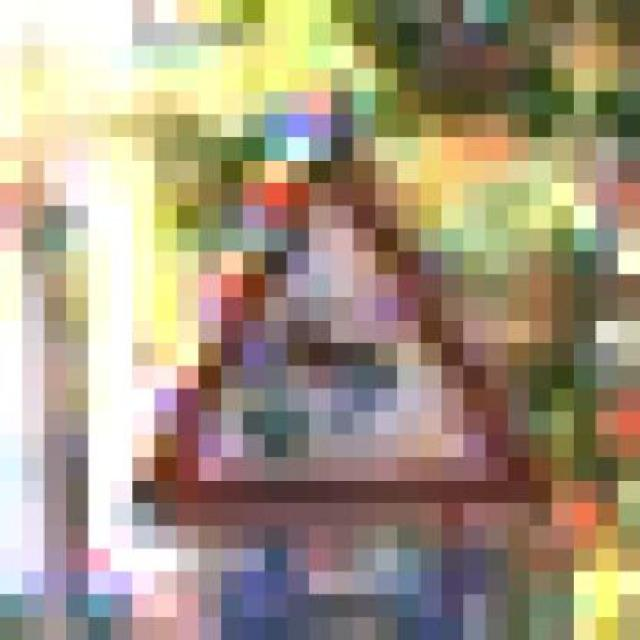Slippery Road Ahead: (66, 91, 552, 548)
